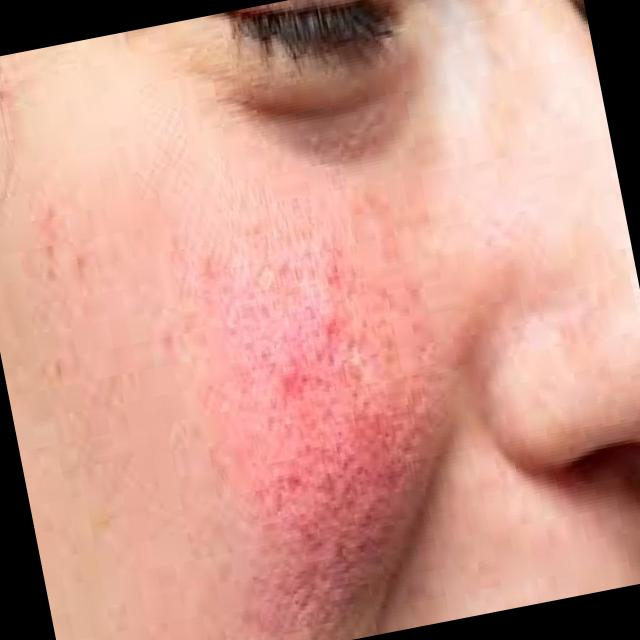redness: (200, 251, 432, 621)
